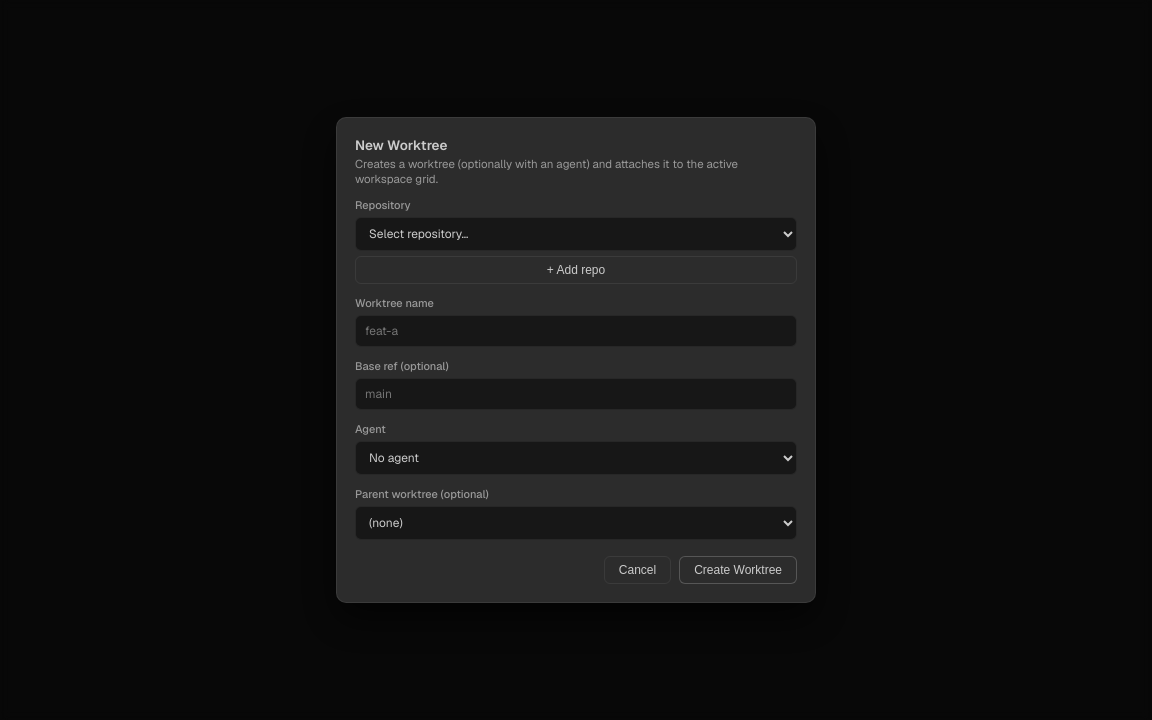
Test case: WorktreeCreateModal › reveals the first-prompt field only when an agent is selected
Expected: the field labelled "first prompt" is not shown
Select "Claude Code" in the dropdown labelled "Agent": (576, 458) [355,441,797,475]
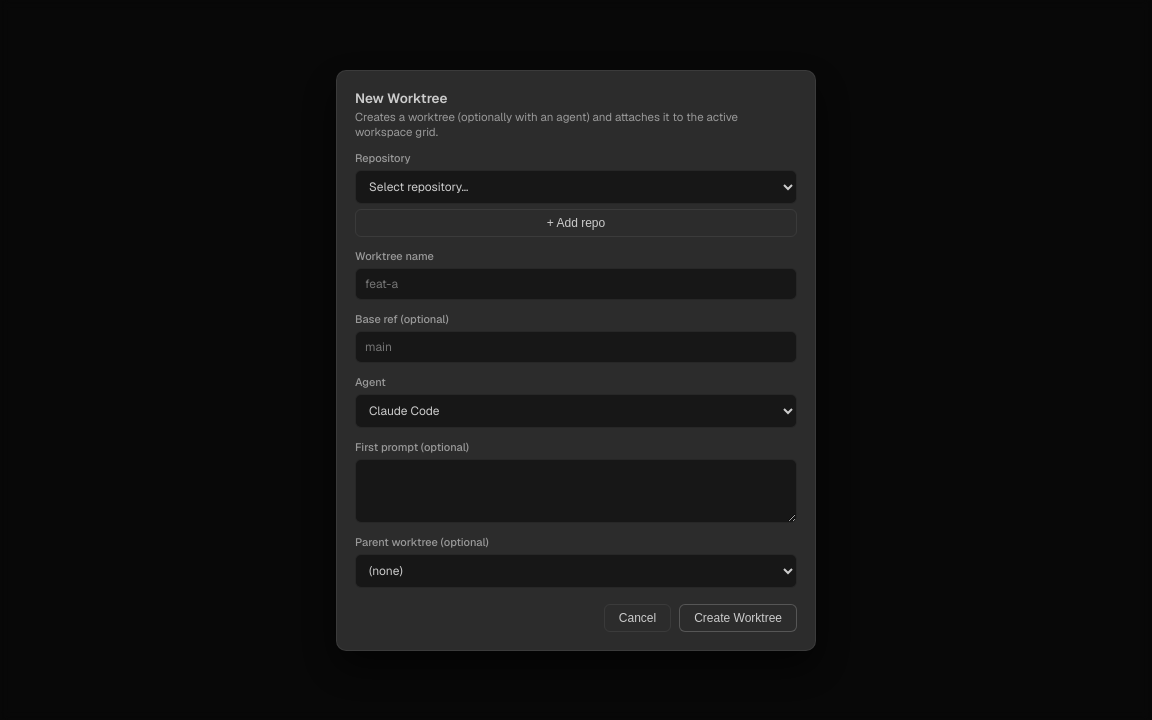
Expected: the text box labelled "First prompt (optional)" is shown, [355,458,797,522]
Select "No agent" in the dropdown labelled "Agent": (576, 410) [355,394,797,428]
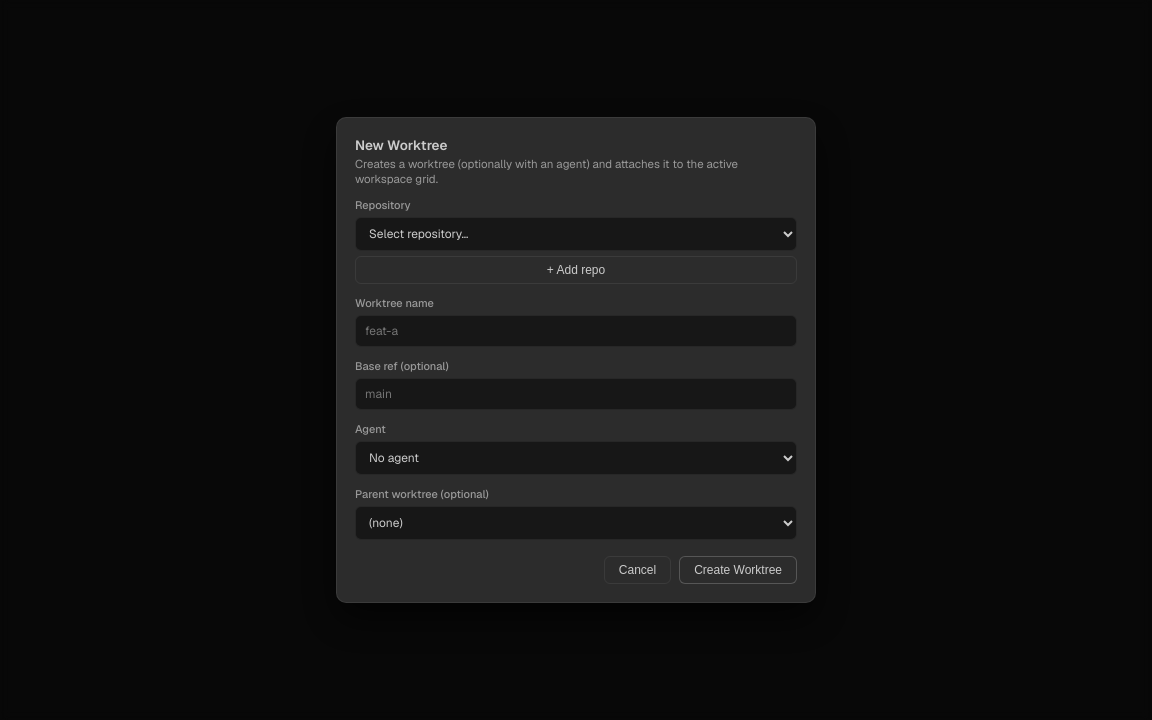
Expected: the label labelled "First prompt" is gone
